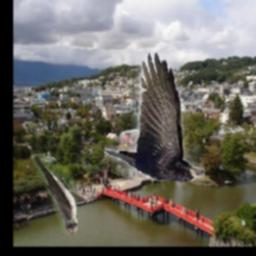Crow: (105, 54, 206, 182)
Swallow: (33, 154, 79, 235)
